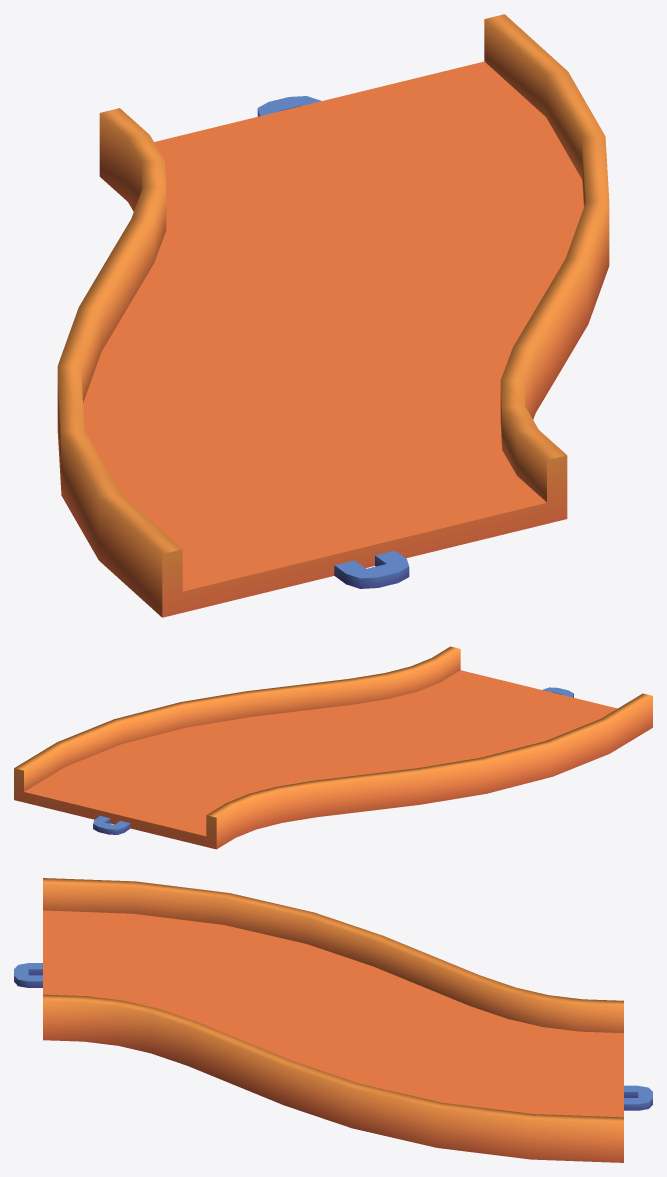
File: track-wide-curve.glb
3 renders of one model, top to bottom at view 1: azimuth 30°, elevation 25°; view 2: azimuth 150°, elevation 25°; view 3: azimuth 270°, elevation 25°, orthographic. The views are drawn at different scales.
Parts seen in each view (by area): view 1: track-wide-curve; view 2: track-wide-curve; view 3: track-wide-curve.
Part boxes in pixels (x1,y1,x2,y2): track-wide-curve: (57, 14, 609, 617); track-wide-curve: (14, 646, 652, 849); track-wide-curve: (14, 878, 652, 1162).
Size of the model in its own units: 12 by 0.9 by 13.2.
1 material, 1 textured.
